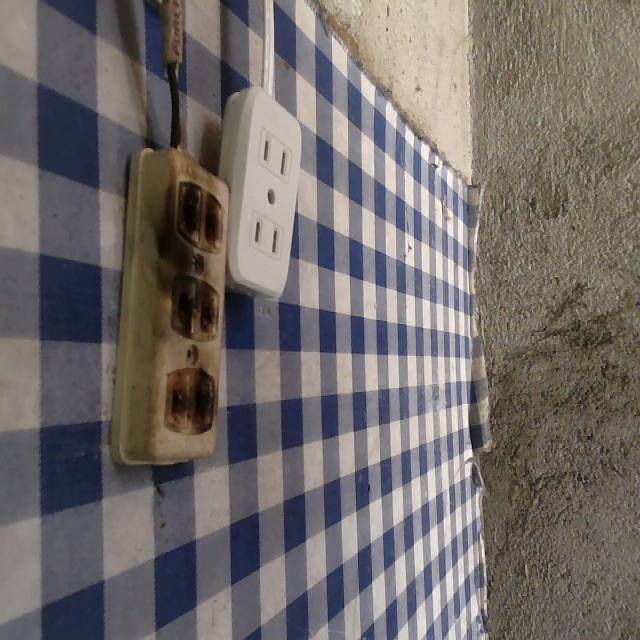-: (171, 176, 228, 257), (167, 266, 218, 342), (163, 364, 212, 435)
